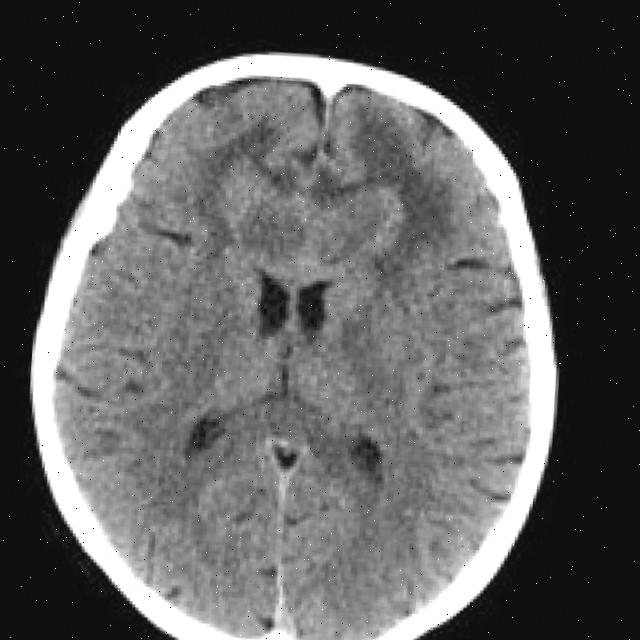NoTumor: (1, 27, 583, 640)
